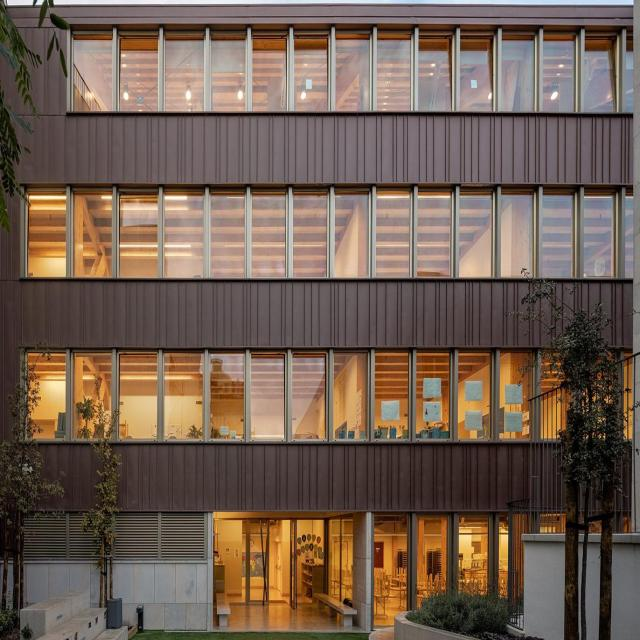door: (240, 520, 324, 605)
railing: (508, 381, 568, 626)
window: (24, 343, 636, 437), (22, 190, 636, 274), (70, 22, 635, 110), (373, 514, 504, 623)
